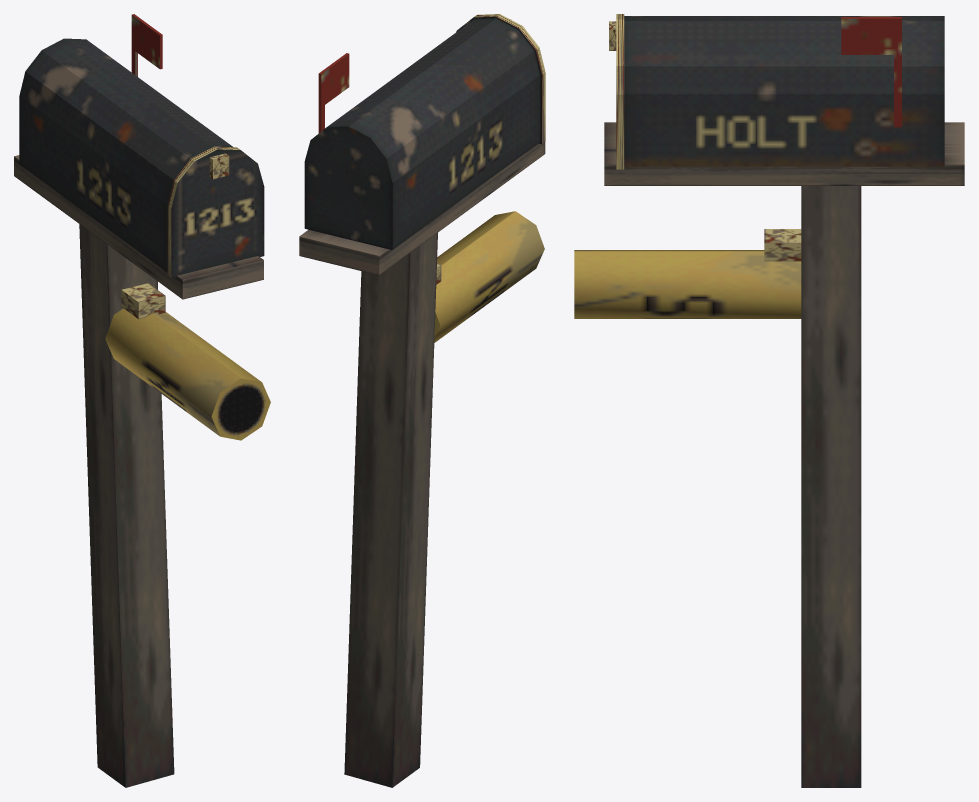
The model's file is mailbox.obj.
3 renders of one model, left to right at view 1: azimuth 30°, elevation 25°; view 2: azimuth 150°, elevation 25°; view 3: azimuth 270°, elevation 25°, orthographic. The views are drawn at different scales.
Visible parts, largest first — view 1: mailbox; view 2: mailbox; view 3: mailbox.
Part boxes in pixels (x1,y1,x2,y2): mailbox: (14,14,270,787); mailbox: (299,14,545,787); mailbox: (574,14,964,787).
Size of the model in its own units: 0.1788 by 1.28 by 0.585.
Materials: 1 (1 with a texture image).
